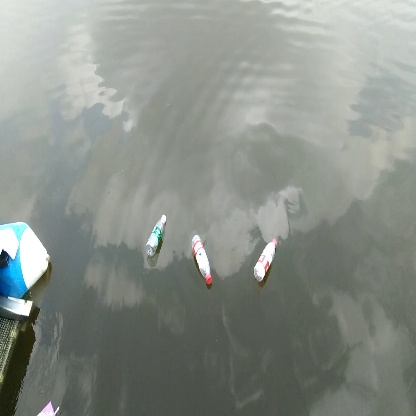bottle: (250, 235, 281, 288), (188, 233, 216, 286), (144, 212, 170, 257)
